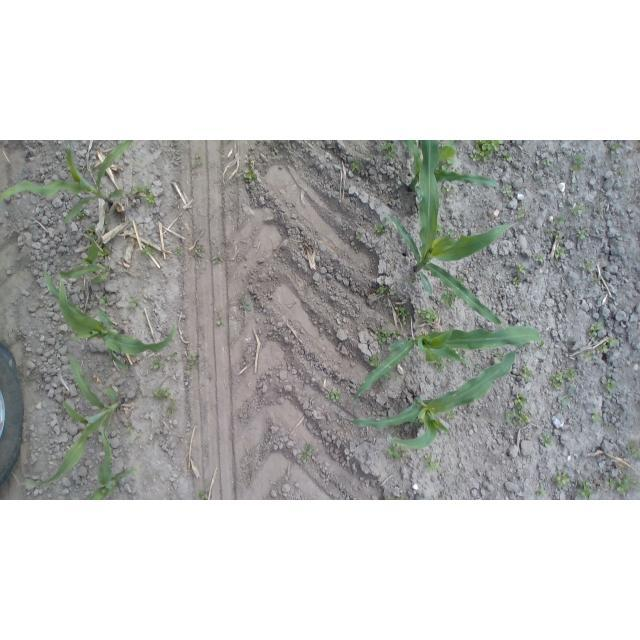Maize: (389, 140, 515, 324), (345, 344, 520, 452), (353, 328, 544, 410), (43, 268, 180, 371), (24, 355, 122, 487), (1, 140, 136, 225), (402, 140, 499, 201), (86, 414, 134, 500), (59, 234, 112, 282)
Weeds: (504, 391, 530, 427), (471, 141, 504, 164), (608, 475, 640, 496), (132, 183, 156, 206), (375, 327, 403, 345), (552, 368, 577, 388), (417, 307, 439, 326), (387, 442, 409, 460), (439, 289, 457, 309), (140, 239, 157, 259), (380, 141, 397, 161), (559, 389, 576, 408), (597, 337, 619, 351), (424, 453, 440, 472), (588, 319, 604, 338), (370, 218, 388, 234), (579, 481, 594, 500), (301, 443, 315, 463), (395, 304, 408, 325), (539, 431, 555, 448), (152, 386, 172, 399), (435, 158, 453, 172), (626, 439, 640, 457), (555, 470, 569, 488), (243, 167, 257, 185), (571, 156, 586, 172), (602, 378, 617, 393), (188, 355, 200, 373), (326, 389, 341, 403), (194, 488, 211, 500), (535, 483, 548, 498), (376, 283, 393, 294), (433, 358, 445, 373), (520, 367, 532, 382), (548, 229, 561, 242), (127, 296, 141, 308), (98, 244, 110, 258), (239, 299, 253, 311), (168, 400, 177, 418), (555, 246, 567, 259), (443, 183, 456, 195), (570, 205, 587, 214), (351, 159, 361, 174), (369, 356, 380, 369), (585, 350, 596, 363), (149, 358, 161, 369), (582, 261, 594, 272), (591, 412, 602, 424), (502, 184, 512, 197), (448, 229, 458, 242), (443, 410, 457, 419), (88, 226, 97, 240), (517, 209, 528, 220), (504, 151, 515, 162), (611, 143, 621, 155), (576, 228, 587, 238), (99, 295, 109, 306), (75, 210, 85, 220), (437, 222, 444, 236), (512, 277, 521, 287), (591, 274, 601, 283), (555, 216, 566, 224), (176, 248, 185, 257), (496, 353, 505, 362), (517, 263, 525, 273), (212, 254, 220, 264), (127, 423, 132, 438), (535, 254, 544, 262), (194, 156, 201, 166), (458, 276, 465, 285), (217, 316, 224, 325), (408, 278, 416, 285), (197, 247, 205, 254), (397, 495, 408, 500), (543, 159, 550, 166), (620, 168, 627, 175), (170, 352, 176, 360), (440, 490, 446, 498), (355, 235, 361, 243), (390, 430, 396, 437), (386, 373, 391, 381), (520, 200, 526, 206), (385, 495, 391, 500), (105, 216, 111, 221), (90, 168, 95, 173), (564, 152, 569, 156)
